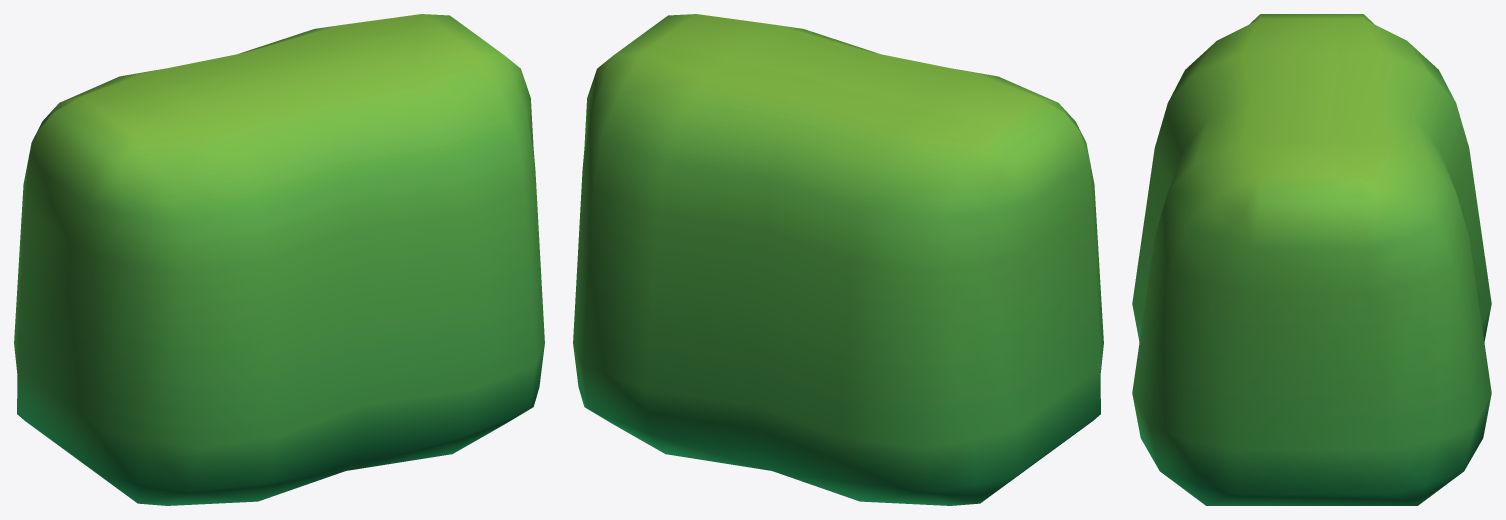
The model's file is prop_park_hedge_straight.glb.
3 renders of one model, left to right at view 1: azimuth 30°, elevation 25°; view 2: azimuth 150°, elevation 25°; view 3: azimuth 270°, elevation 25°, orthographic. The views are drawn at different scales.
Visible parts, largest first — view 1: hedge_straight; view 2: hedge_straight; view 3: hedge_straight.
Part boxes in pixels (x1,y1,x2,y2): hedge_straight: [14, 14, 544, 505]; hedge_straight: [573, 14, 1103, 505]; hedge_straight: [1132, 14, 1491, 505].
Size of the model in its own units: 2 by 1.5 by 1.5.
1 material, 1 textured.
